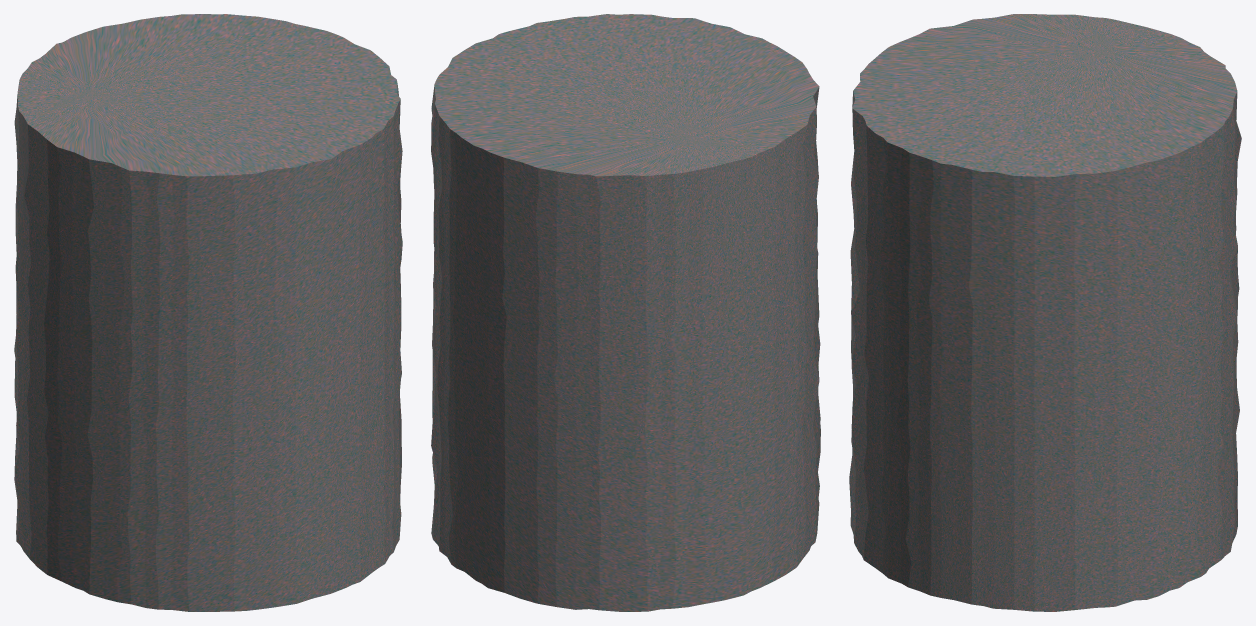
File: barrel_60.dae
The picture shows the model from 3 angles, left to right: view 1: azimuth 30°, elevation 25°; view 2: azimuth 150°, elevation 25°; view 3: azimuth 270°, elevation 25°; orthographic projection.
Visible parts, largest first — view 1: Cylinder; view 2: Cylinder; view 3: Cylinder.
Boxes of the visible parts, x1=… form: Cylinder: x1=14, y1=14, x2=402, y2=611; Cylinder: x1=431, y1=14, x2=820, y2=611; Cylinder: x1=849, y1=14, x2=1241, y2=611.
Size of the model in its own units: 0.812 by 0.818 by 1.
Materials: 1 (1 with a texture image).
